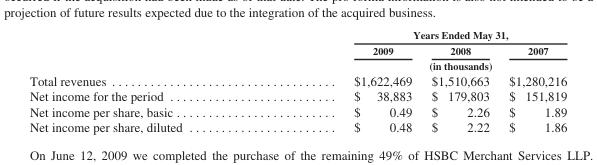table: (28, 28, 566, 134)
table column: (28, 28, 267, 134), (267, 28, 421, 134), (421, 28, 498, 134), (498, 28, 566, 134)
table column header: (28, 28, 566, 72)
table row: (28, 42, 566, 58), (28, 72, 566, 88), (28, 103, 566, 119), (28, 88, 566, 103), (28, 119, 566, 134), (28, 28, 566, 42), (28, 58, 566, 72)
table spanning cell: (267, 28, 566, 42), (267, 58, 566, 72)
